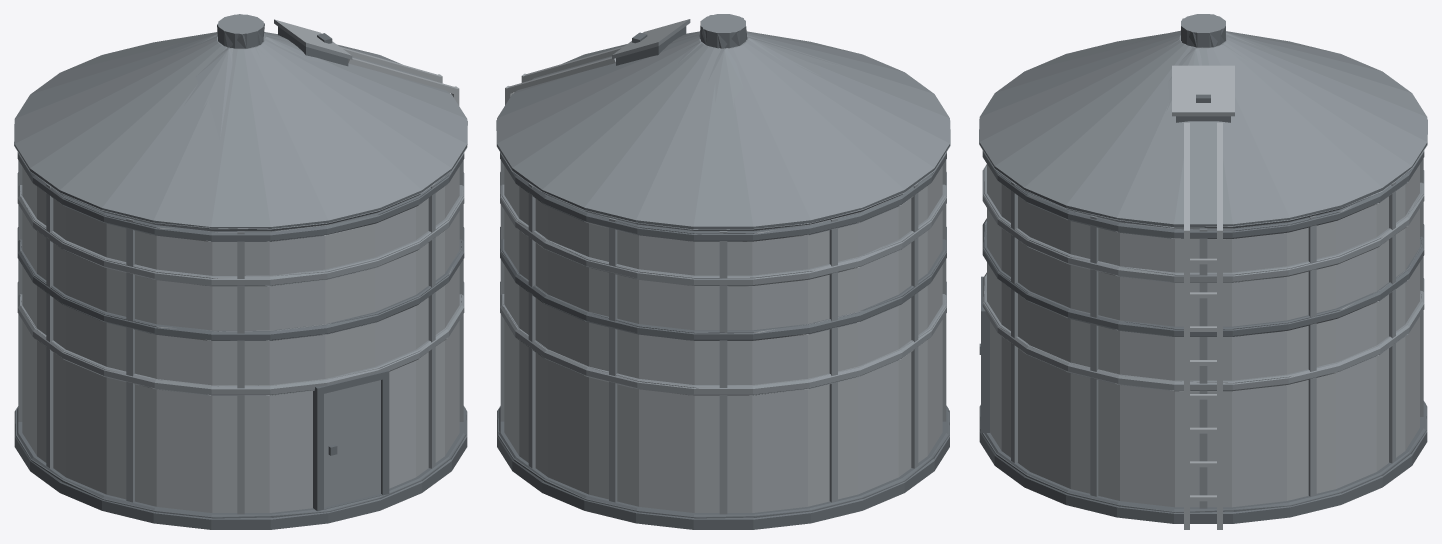
File: FMS_Mach_GrainBin.fbx
3 renders of one model, left to right at view 1: azimuth 30°, elevation 25°; view 2: azimuth 150°, elevation 25°; view 3: azimuth 270°, elevation 25°, orthographic.
Parts seen in each view (by area): view 1: Body, Body_Low1, Door, Roof_Hatch; view 2: Body, Body_Low1, Roof_Hatch; view 3: Body, Body_Low1, Roof_Hatch.
Part boxes in pixels (x1,y1,x2,y2): Body: [14, 14, 467, 529]; Body_Low1: [14, 14, 467, 518]; Door: [324, 380, 380, 507]; Roof_Hatch: [274, 19, 352, 59]; Body: [497, 14, 949, 529]; Body_Low1: [496, 14, 950, 518]; Roof_Hatch: [612, 19, 690, 59]; Body: [979, 14, 1427, 529]; Body_Low1: [979, 14, 1427, 512]; Roof_Hatch: [1172, 65, 1234, 116].
Size of the model in its own units: 6.2 by 6 by 6.01.
1 material, 1 textured.
